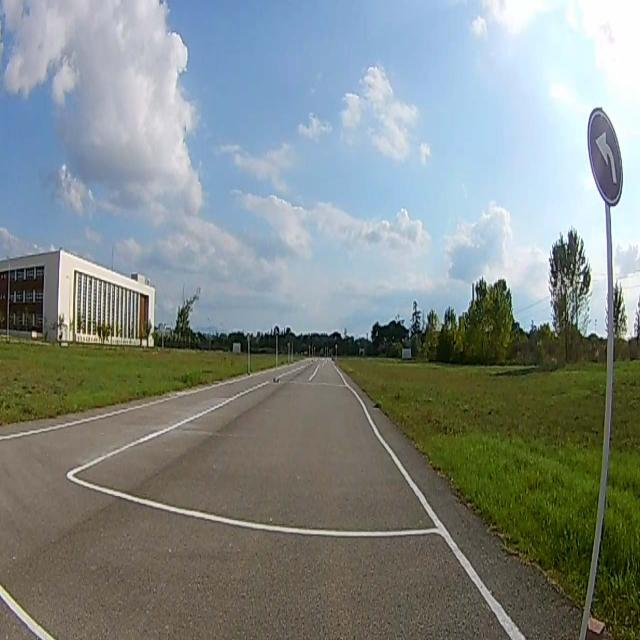sol: (587, 106, 623, 208)
